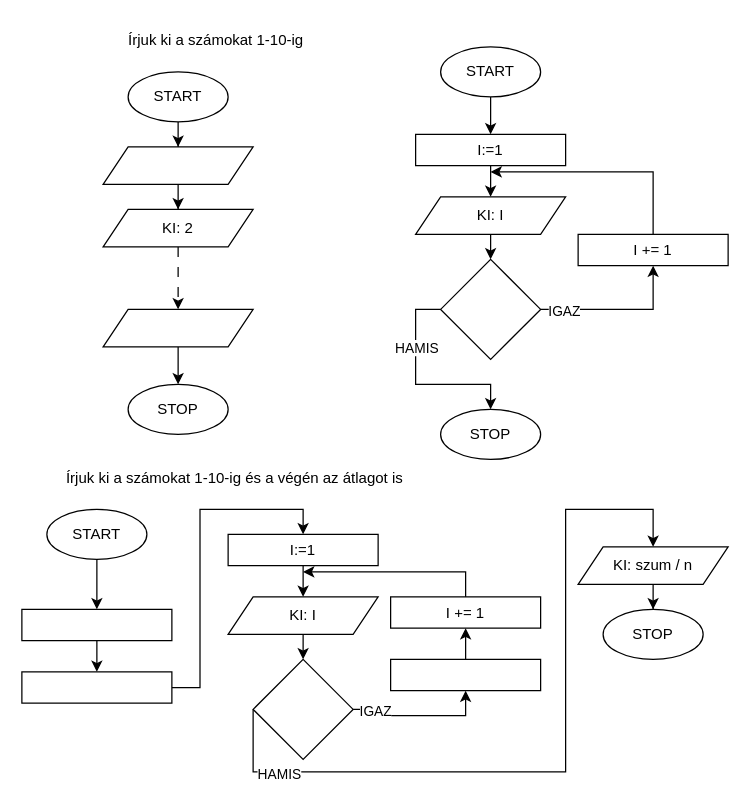
The diagram is 750 pixels wide and 804 high, and some of its shapes have lost their labels. The shapes that lost their labels are listed below. From the top down, each one's centre as x and y in pixels, then its label:
[177,165]: KI: 1
[177,327]: KI: 10
[490,308]: I<10
[96,624]: n:=10
[96,687]: szum:=0
[465,674]: szum+=I
[302,708]: I<n
